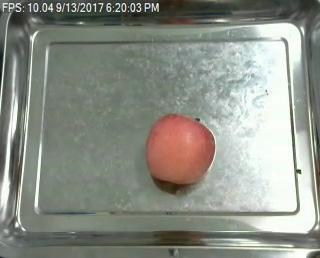apple: (144, 113, 218, 186)
